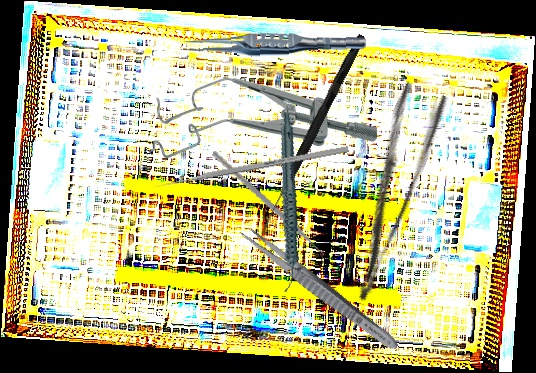Chopper: (195, 150, 340, 268)
Dressing Forceps: (322, 80, 453, 304), (235, 221, 403, 356)
Handpiece: (247, 113, 328, 294)
Hook Surgical: (261, 32, 366, 231)
Pusher: (153, 145, 349, 190)
Speculum: (151, 78, 377, 158)
Tissue Forceps: (182, 28, 367, 60)
